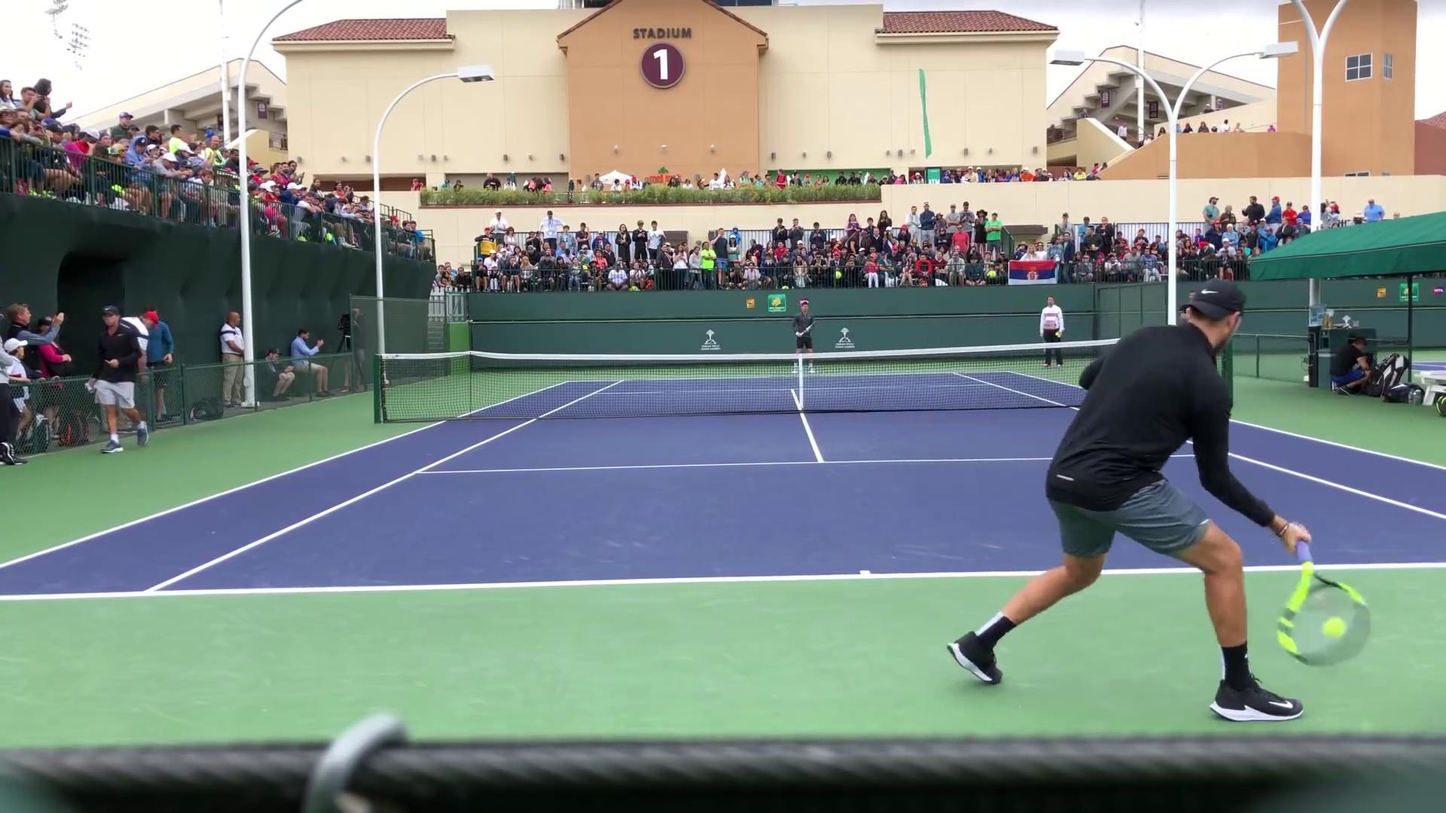ball: (1322, 618, 1345, 639)
